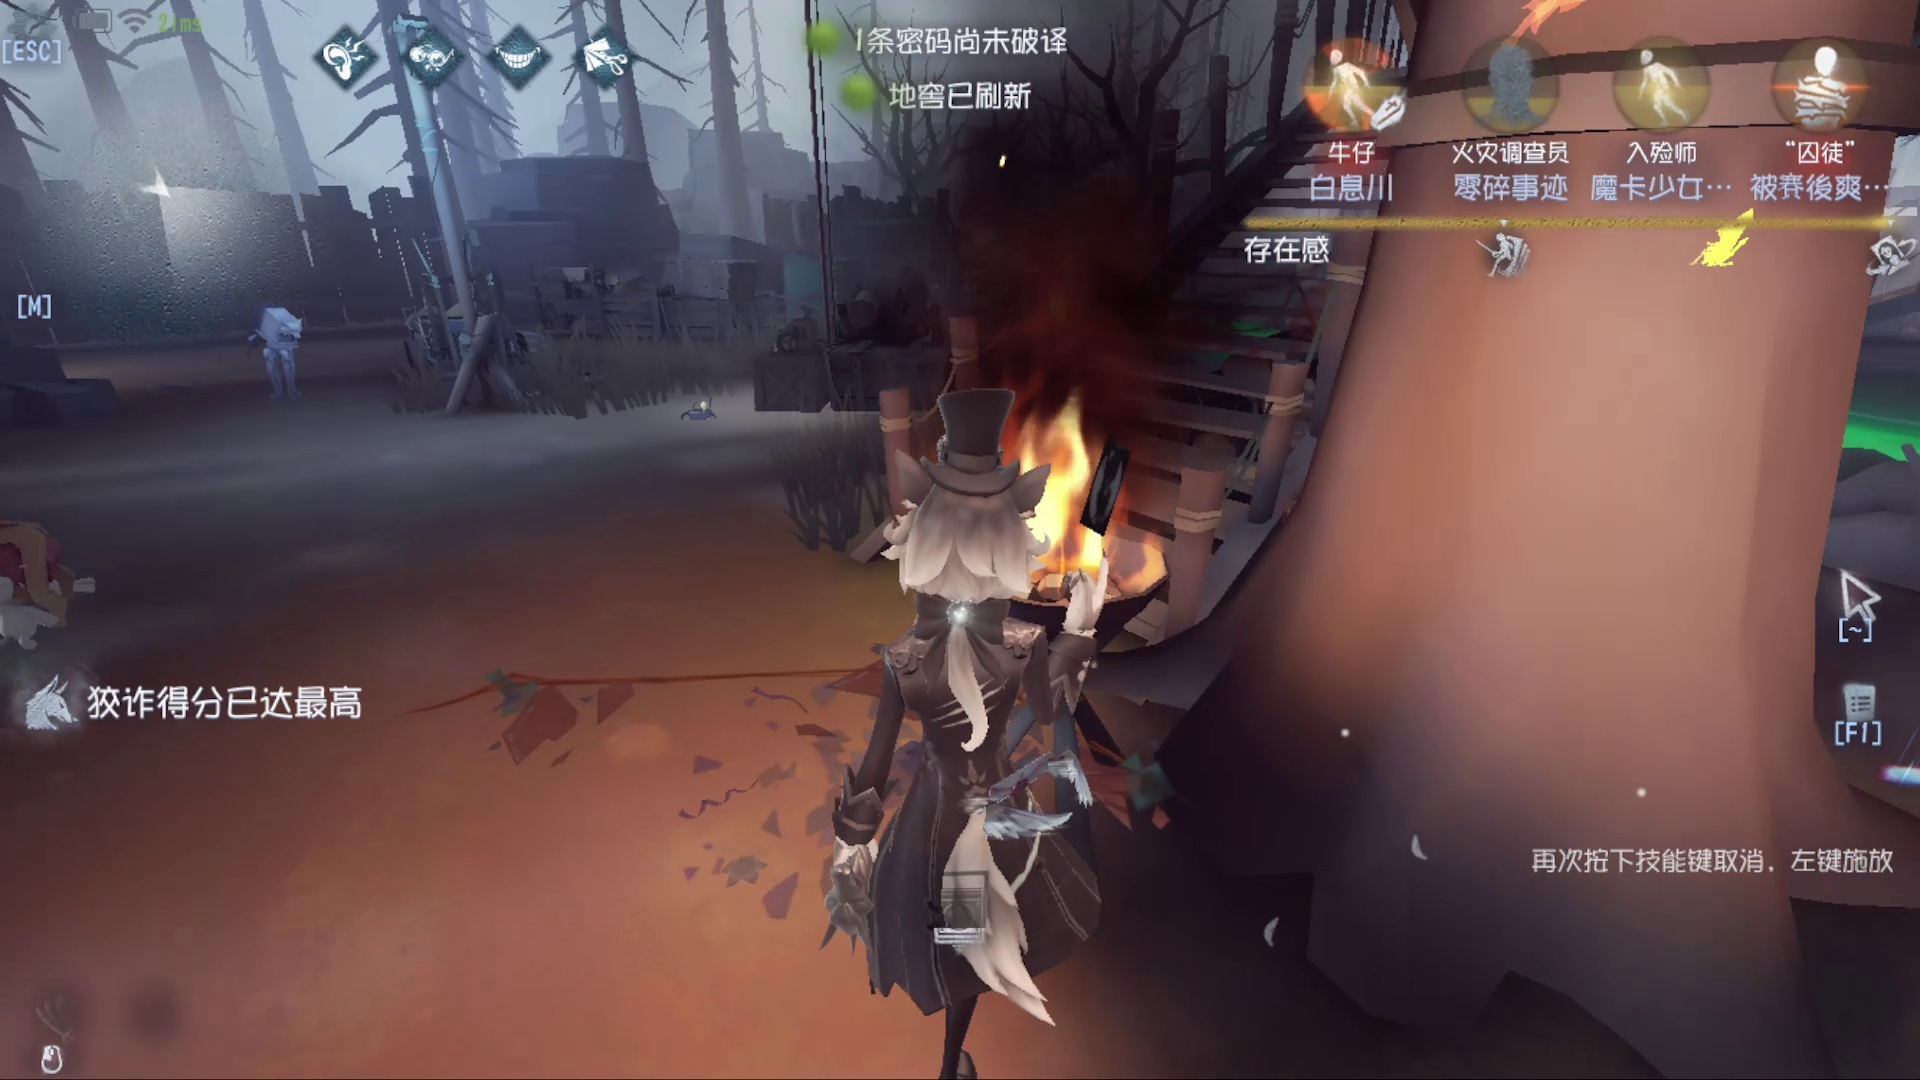密码机: (717, 261, 849, 444)
